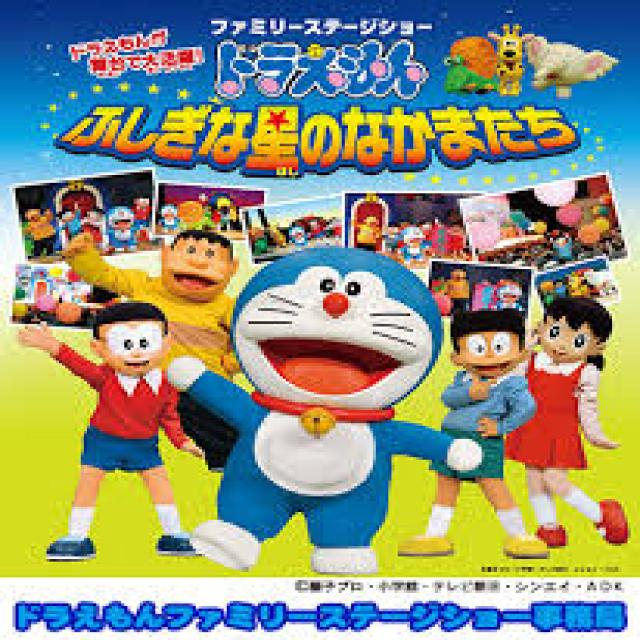doraemon: (214, 228, 460, 476)
jaian: (152, 219, 252, 311)
nobita: (78, 295, 180, 389)
shizuka: (525, 282, 625, 397)
suneo: (435, 292, 541, 394)
